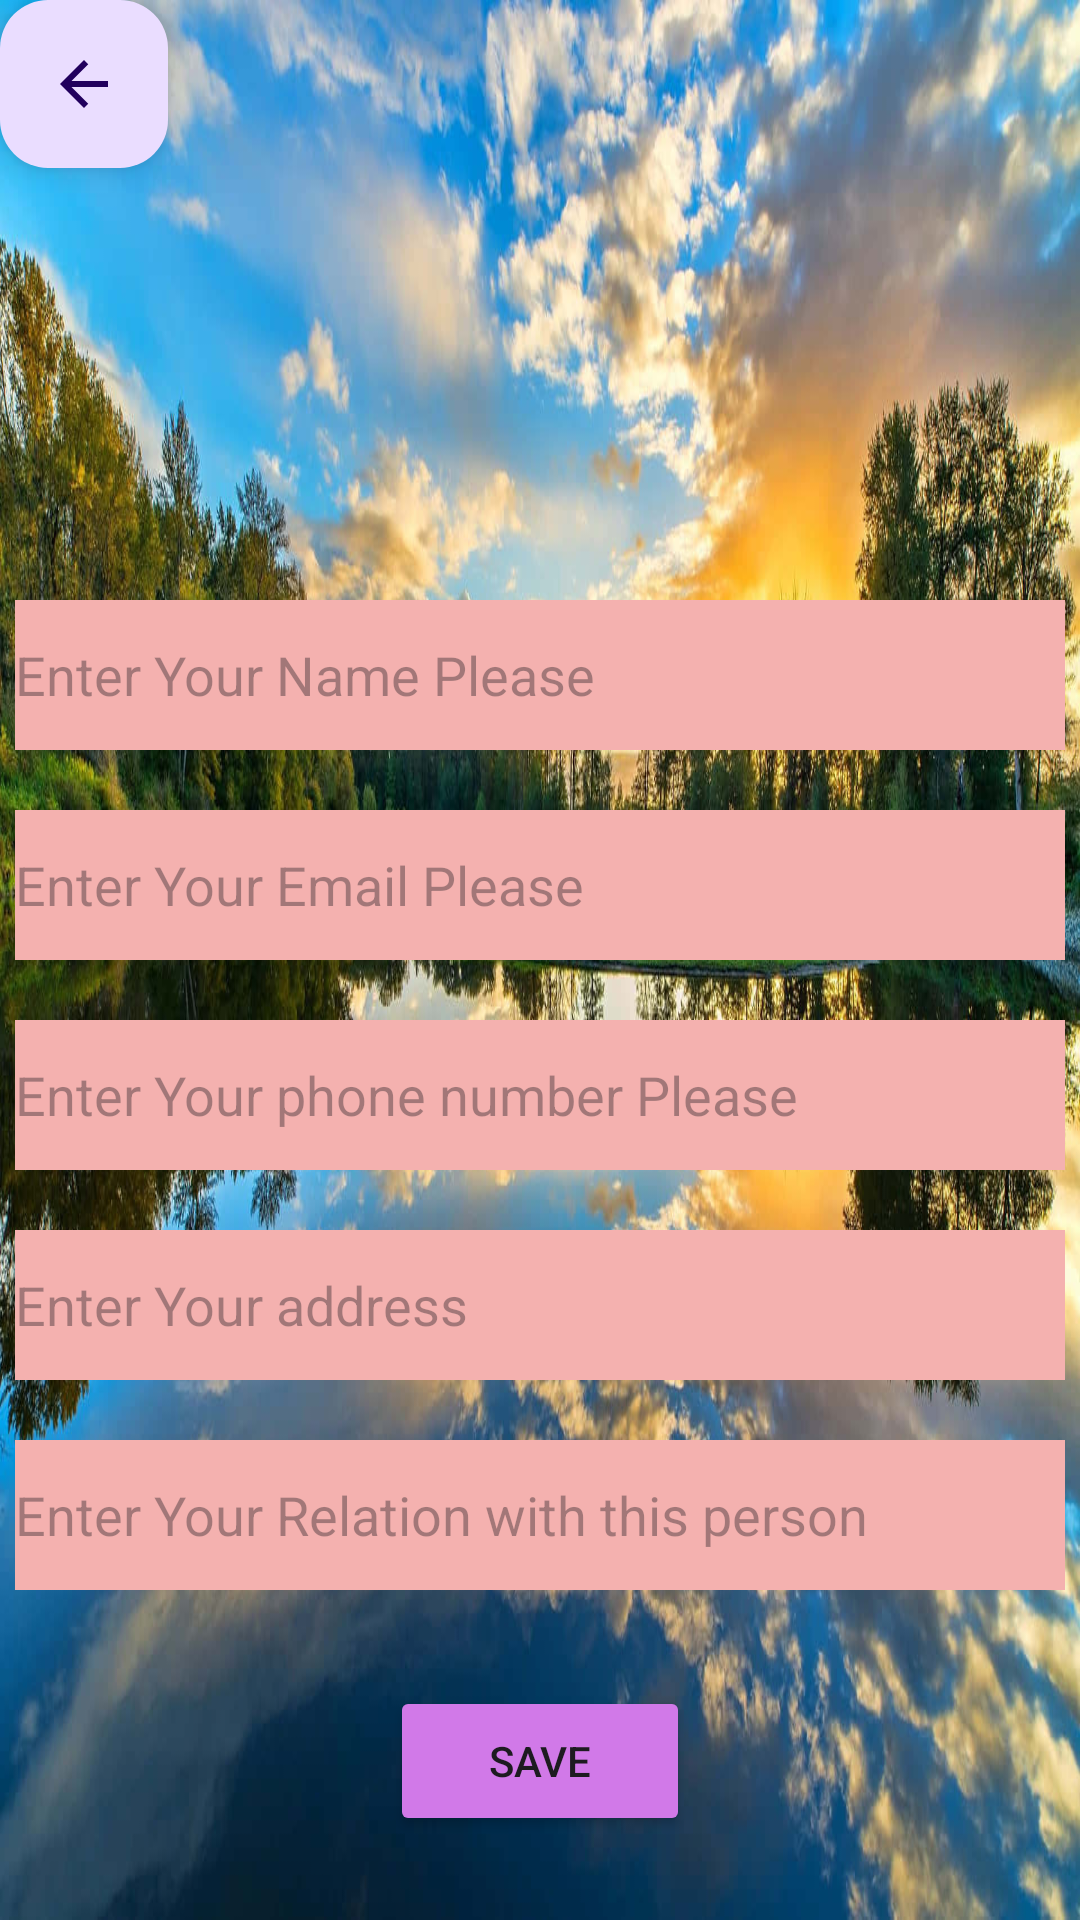

Point at icon controls on the screen. Image size 1080 x 1920, points as (x,y).
arrow back: (84,84)
